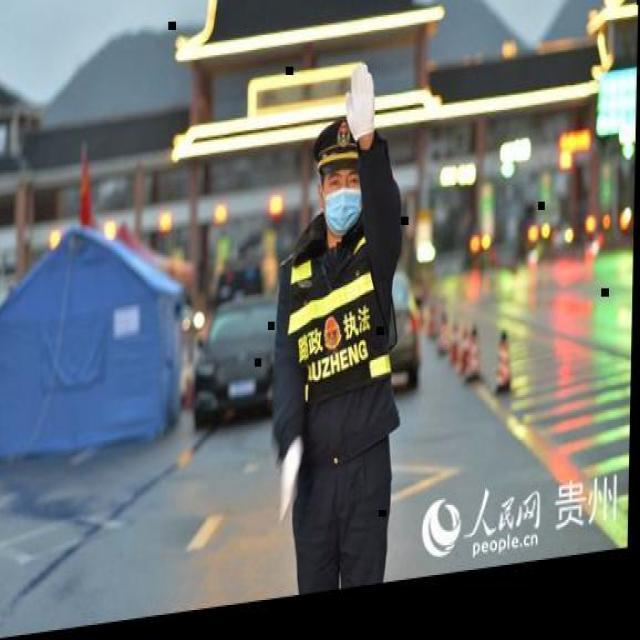safety_helmet: (275, 257, 394, 405)
